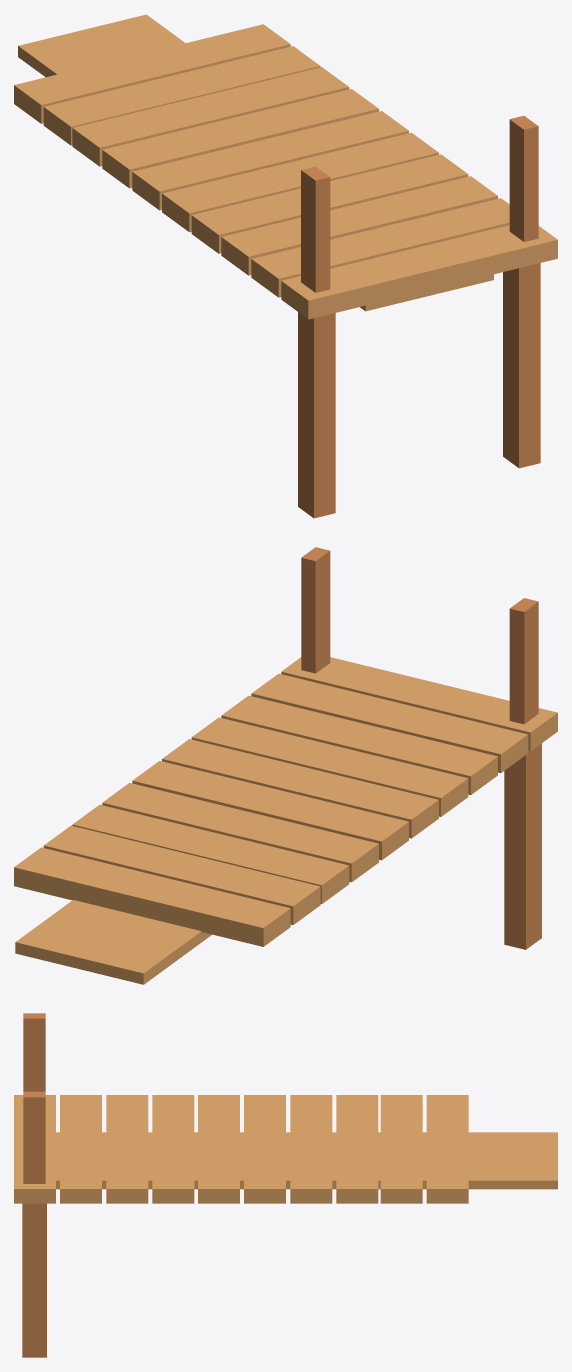
Rendered from bridge.gltf.
The picture shows the model from 3 angles, top to bottom: view 1: azimuth 30°, elevation 25°; view 2: azimuth 150°, elevation 25°; view 3: azimuth 270°, elevation 25°; orthographic projection. The views are drawn at different scales.
Visible parts, largest first — view 1: Cube.012; view 2: Cube.012; view 3: Cube.012.
Part boxes in pixels (box(x1,y1,x2,y2)): Cube.012: box(14, 14, 557, 518); Cube.012: box(14, 547, 557, 984); Cube.012: box(14, 1013, 557, 1357).
Size of the model in its own units: 4.86 by 6.27 by 11.89.
